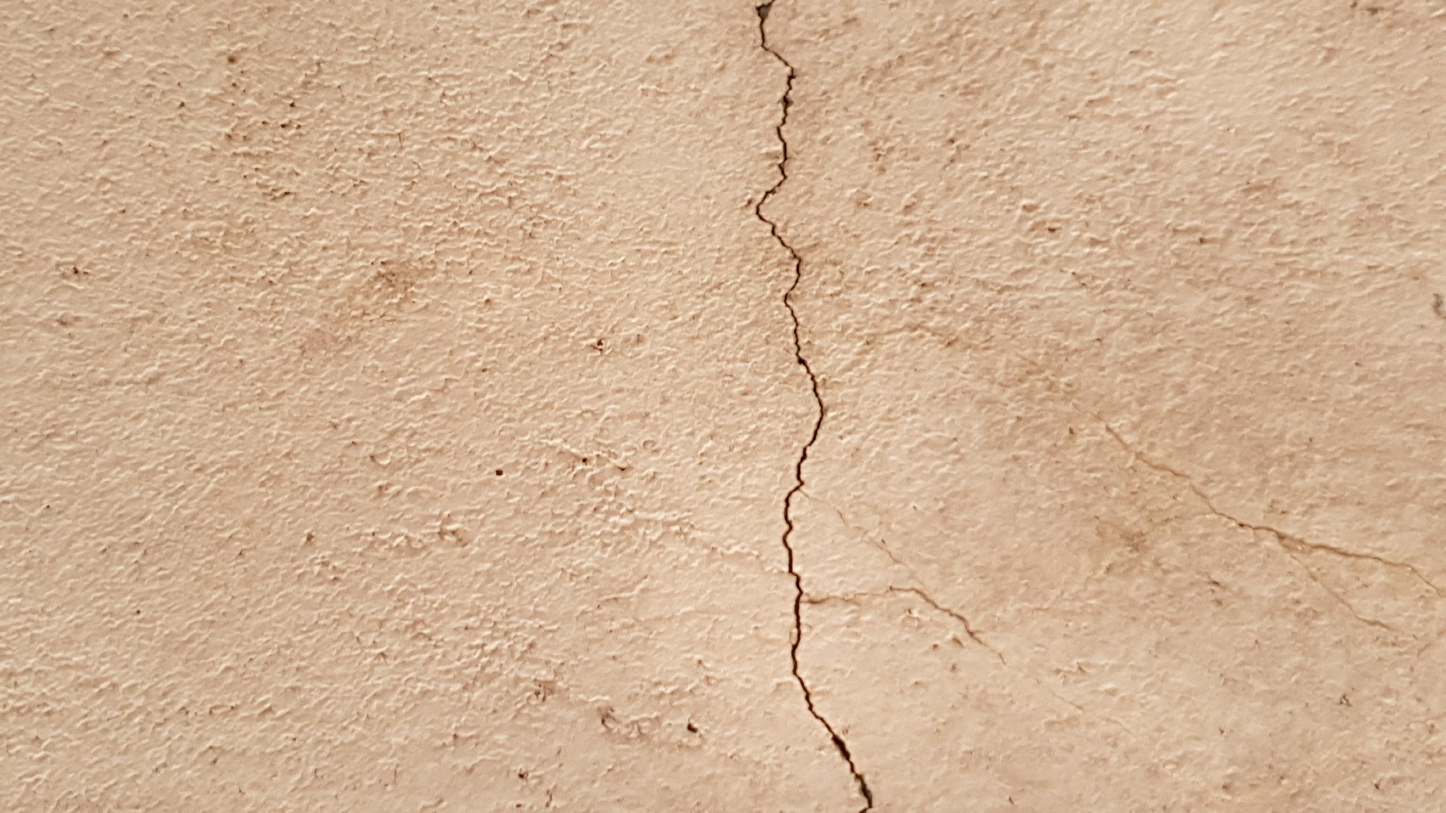crack: (749, 1, 877, 812)
